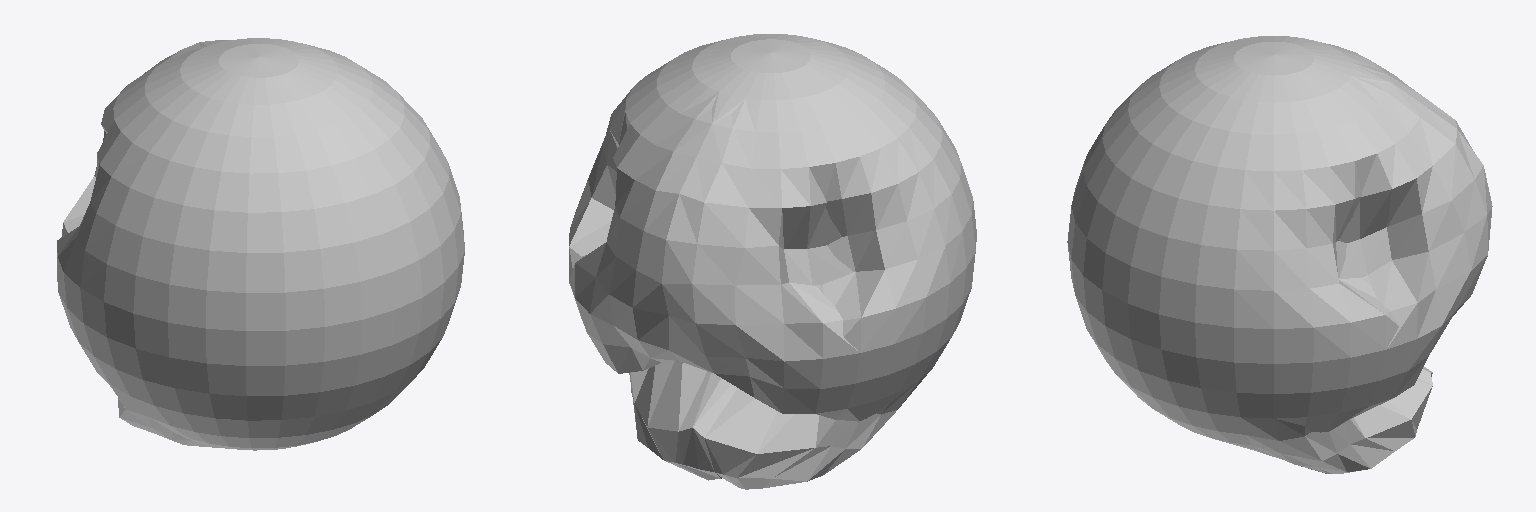
Rendered from pumkin.obj.
The picture shows the model from 3 angles: view 1: azimuth 30°, elevation 25°; view 2: azimuth 150°, elevation 25°; view 3: azimuth 270°, elevation 25°; orthographic projection.
Visible parts, largest first — view 1: Сфера; view 2: Сфера; view 3: Сфера.
Boxes of the visible parts, box(x1,y1,x2,y2) form: Сфера: box(57, 38, 464, 450); Сфера: box(569, 34, 976, 489); Сфера: box(1067, 36, 1492, 473).
Size of the model in its own units: 2 by 2.15 by 2.06.